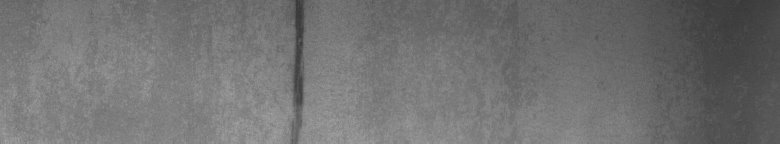hd: (286, 4, 309, 136)
